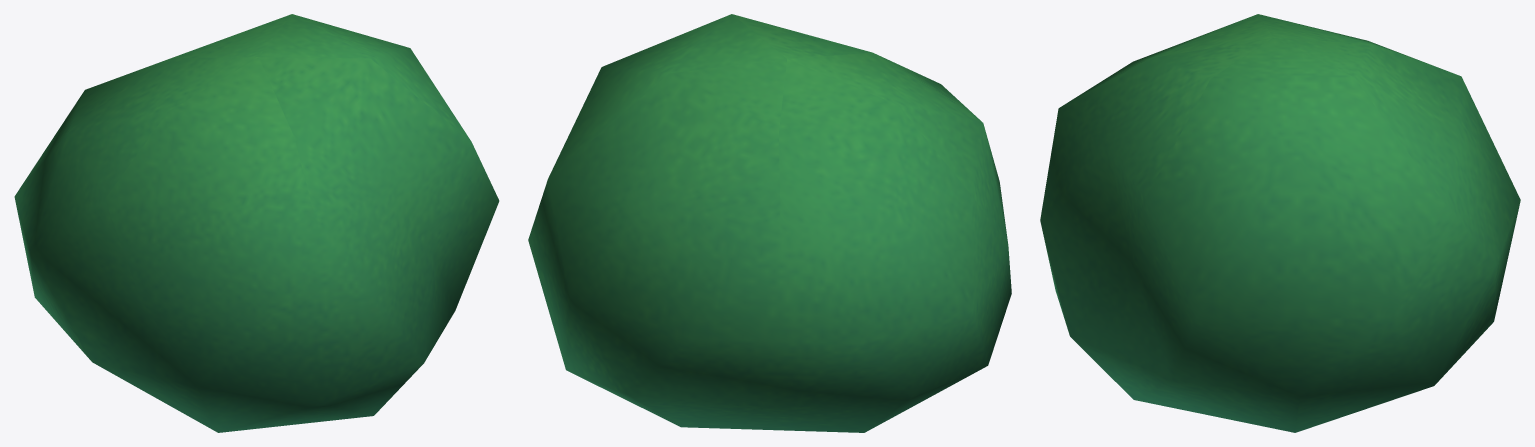
Rendered from Bush_3.glb.
3 views of the same model, side by side, from view 1: azimuth 30°, elevation 25°; view 2: azimuth 150°, elevation 25°; view 3: azimuth 270°, elevation 25° (orthographic). The views are drawn at different scales.
Parts seen in each view (by area): view 1: Icosphere.039; view 2: Icosphere.039; view 3: Icosphere.039.
Part boxes in pixels (<box>): Icosphere.039: <box>14,14,499,432</box>; Icosphere.039: <box>528,14,1011,432</box>; Icosphere.039: <box>1040,14,1520,432</box>.
Bounding box in the file's own units: 1.21 × 0.9701 × 1.18.
Materials: 1 (1 with a texture image).
